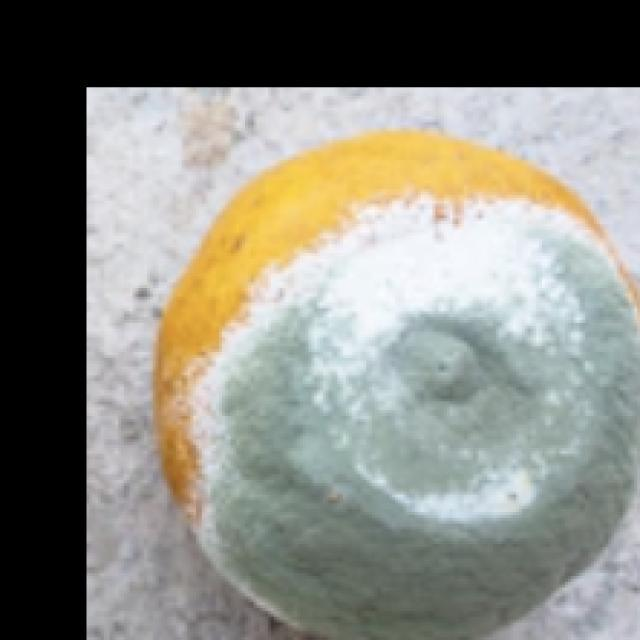sangat-busuk: (155, 132, 639, 639)
